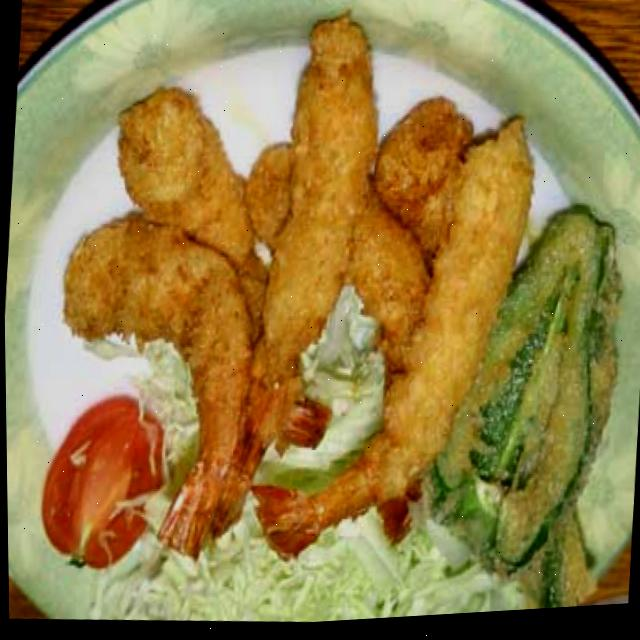炸货点心: (33, 0, 551, 612)
熟制海鲜: (33, 0, 551, 612)
